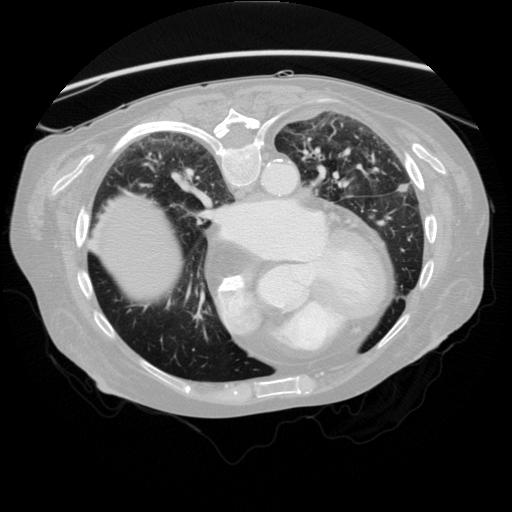nodule: (394, 182, 409, 197)
